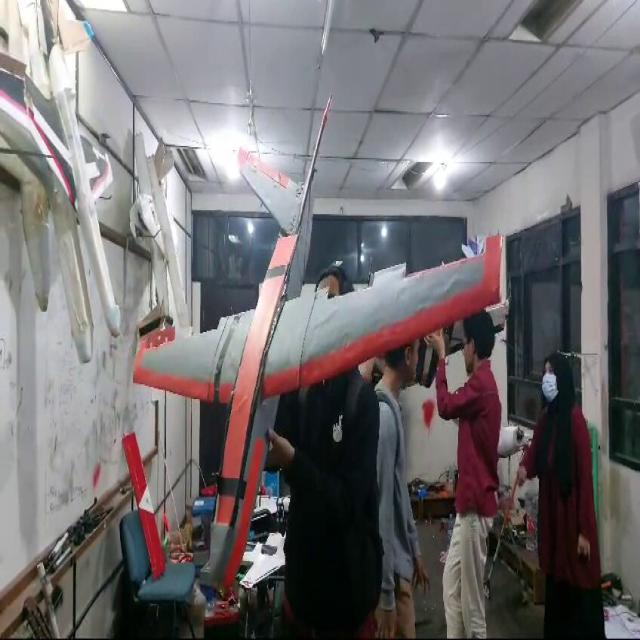plane: (129, 91, 509, 599)
